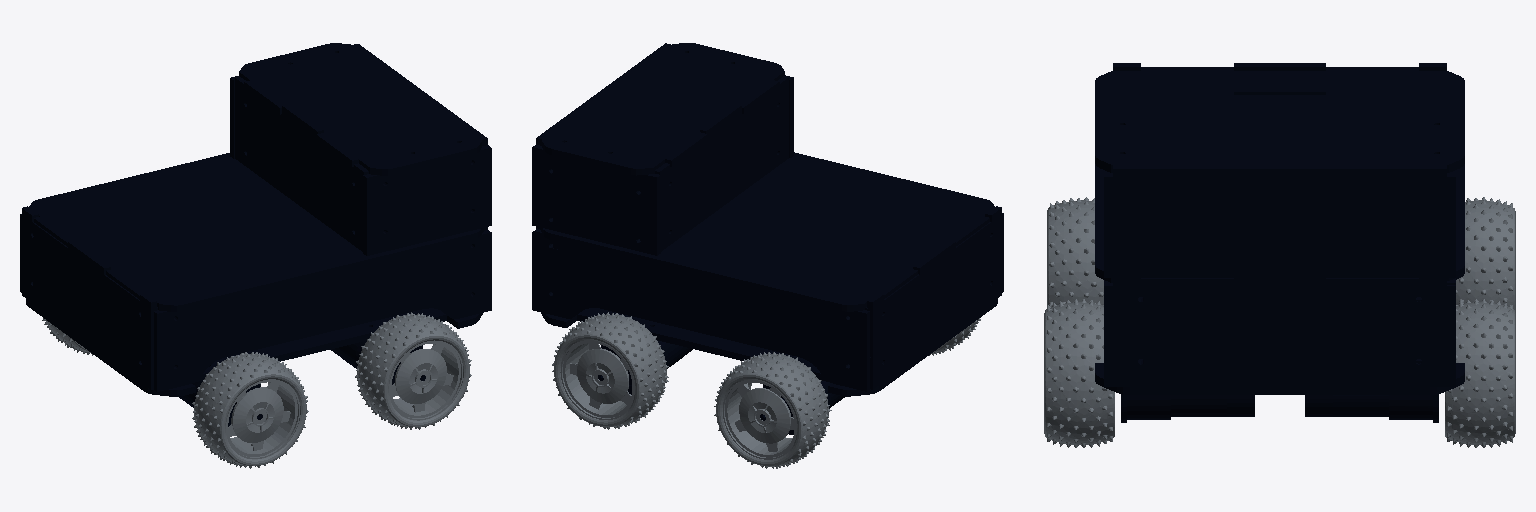
URDF robot description (robodojo):
<?xml version="1.0" encoding="utf-8"?>
<!-- This URDF was automatically created by SolidWorks to URDF Exporter! Originally created by Stephen Brawner (brawner@gmail.com) 
     Commit Version: 1.6.0-4-g7f85cfe  Build Version: 1.6.7995.38578
     For more information, please see http://wiki.ros.org/sw_urdf_exporter -->
<robot
  name="robodojo">
  <link
    name="base_link">
    <inertial>
      <origin
        xyz="0.016991164649897 2.36652576121518E-05 0.0381240243331035"
        rpy="0 0 0" />
      <mass
        value="1.34496197084573" />
      <inertia
        ixx="0.00272910463479483"
        ixy="-3.10892521044449E-09"
        ixz="9.64857077163616E-12"
        iyy="0.00426438366106387"
        iyz="-1.87434303577839E-10"
        izz="0.00643346635805135" />
    </inertial>
    <visual>
      <origin
        xyz="0 0 0"
        rpy="0 0 0" />
      <geometry>
        <mesh
          filename="package://robodojo/meshes/base_link.STL" />
      </geometry>
      <material
        name="">
        <color
          rgba="0.039216 0.058824 0.109804 1" />
      </material>
    </visual>
    <collision>
      <origin
        xyz="0 0 0"
        rpy="0 0 0" />
      <geometry>
        <mesh
          filename="package://robodojo/meshes/base_link.STL" />
      </geometry>
    </collision>
  </link>
  <link
    name="front_left_wheel">
    <inertial>
      <origin
        xyz="-1.05169954411899E-07 -0.0129963417416654 -1.19097964029063E-07"
        rpy="0 0 0" />
      <mass
        value="0.070019479086668" />
      <inertia
        ixx="4.49162318845952E-05"
        ixy="-1.40789834110715E-10"
        ixz="2.03926191822791E-11"
        iyy="7.56621221979393E-05"
        iyz="-1.89023849839168E-10"
        izz="4.49160679091751E-05" />
    </inertial>
    <visual>
      <origin
        xyz="0 0 0"
        rpy="0 0 0" />
      <geometry>
        <mesh
          filename="package://robodojo/meshes/front_left_wheel.STL" />
      </geometry>
      <material
        name="">
        <color
          rgba="0.447058823529412 0.474509803921569 0.501960784313725 1" />
      </material>
    </visual>
    <collision>
      <origin
        xyz="0 -0.013 0"
        rpy="1.5708 0 0" />
      <geometry>
        <cylinder radius="0.0407" length="0.0383" />
      </geometry>
    </collision>
  </link>
  <joint
    name="front_left_wheel_joint"
    type="continuous">
    <origin
      xyz="0.065 0.1215 -0.019796"
      rpy="0 0 0" />
    <parent
      link="base_link" />
    <child
      link="front_left_wheel" />
    <axis
      xyz="0 1 0" />
  </joint>
  <link
    name="front_right_wheel">
    <inertial>
      <origin
        xyz="-1.58718018963833E-07 0.012996341741665 -7.32354919763534E-09"
        rpy="0 0 0" />
      <mass
        value="0.0700194790866592" />
      <inertia
        ixx="4.49161522210627E-05"
        ixy="2.35532240957576E-10"
        ixz="8.44537794202227E-11"
        iyy="7.56621221979313E-05"
        iyz="-8.73823779862644E-12"
        izz="4.49161475726997E-05" />
    </inertial>
    <visual>
      <origin
        xyz="0 0 0"
        rpy="0 0 0" />
      <geometry>
        <mesh
          filename="package://robodojo/meshes/front_right_wheel.STL" />
      </geometry>
      <material
        name="">
        <color
          rgba="0.447058823529412 0.474509803921569 0.501960784313725 1" />
      </material>
    </visual>
    <collision>
      <origin
        xyz="0 0.013 0"
        rpy="1.5708 0 0" />
      <geometry>
        <cylinder radius="0.0407" length="0.0383" />
      </geometry>
    </collision>
  </link>
  <joint
    name="front_right_wheel_joint"
    type="continuous">
    <origin
      xyz="0.065 -0.1215 -0.019796"
      rpy="0 0 0" />
    <parent
      link="base_link" />
    <child
      link="front_right_wheel" />
    <axis
      xyz="0 1 0" />
  </joint>
  <link
    name="back_left_wheel">
    <inertial>
      <origin
        xyz="-8.63051810573445E-10 -0.0129963417416651 -1.58884546394567E-07"
        rpy="0 0 0" />
      <mass
        value="0.0700194790866601" />
      <inertia
        ixx="4.49161407172694E-05"
        ixy="1.83091730859495E-11"
        ixz="8.398557786589E-11"
        iyy="7.56621221979318E-05"
        iyz="-2.34982057756249E-10"
        izz="4.49161590764935E-05" />
    </inertial>
    <visual>
      <origin
        xyz="0 0 0"
        rpy="0 0 0" />
      <geometry>
        <mesh
          filename="package://robodojo/meshes/back_left_wheel.STL" />
      </geometry>
      <material
        name="">
        <color
          rgba="0.447058823529412 0.474509803921569 0.501960784313725 1" />
      </material>
    </visual>
    <collision>
      <origin
        xyz="0 -0.013 0"
        rpy="1.5708 0 0" />
      <geometry>
        <cylinder radius="0.0407" length="0.0383" />
      </geometry>
    </collision>
  </link>
  <joint
    name="back_left_wheel_joint"
    type="continuous">
    <origin
      xyz="-0.065 0.1215 -0.019796"
      rpy="0 0 0" />
    <parent
      link="base_link" />
    <child
      link="back_left_wheel" />
    <axis
      xyz="0 1 0" />
  </joint>
  <link
    name="back_right_wheel">
    <inertial>
      <origin
        xyz="1.18232358944925E-07 0.0144963417416649 1.06142139740667E-07"
        rpy="0 0 0" />
      <mass
        value="0.0700194790866537" />
      <inertia
        ixx="4.49160675860549E-05"
        ixy="-1.87864080663133E-10"
        ixz="1.90465495931449E-11"
        iyy="7.56621221979262E-05"
        iyz="-1.42333694537012E-10"
        izz="4.49162322077028E-05" />
    </inertial>
    <visual>
      <origin
        xyz="0 0 0"
        rpy="0 0 0" />
      <geometry>
        <mesh
          filename="package://robodojo/meshes/back_right_wheel.STL" />
      </geometry>
      <material
        name="">
        <color
          rgba="0.447058823529412 0.474509803921569 0.501960784313725 1" />
      </material>
    </visual>
    <collision>
      <origin
        xyz="0 0.0145 0"
        rpy="1.5708 0 0" />
      <geometry>
        <cylinder radius="0.0407" length="0.0383" />
      </geometry>
    </collision>
  </link>
  <joint
    name="back_right_wheel_joint"
    type="continuous">
    <origin
      xyz="-0.065 -0.1215 -0.019796"
      rpy="0 0 0" />
    <parent
      link="base_link" />
    <child
      link="back_right_wheel" />
    <axis
      xyz="0 1 0" />
  </joint>
  <link
    name="lidar_link">
    <inertial>
      <origin
        xyz="0 0 0.0313"
        rpy="0 0 1.5708" />
      <mass
        value="0.01" />
      <inertia
        ixx="0.000001"
        ixy="0"
        ixz="0"
        iyy="0.000001"
        iyz="0"
        izz="0.000001" />
    </inertial>
    <visual>
      <origin
        xyz="-0.042603 -0.042603 -0.033562"
        rpy="0 0 1.5708" />
      <geometry>
        <mesh
          filename="package://robodojo/meshes/lidar.stl"
          scale="0.001 0.001 0.001" />
      </geometry>
      <material
        name="lidar_material">
        <color
          rgba="0 0 0 1" />
      </material>
    </visual>
    <collision>
      <origin
        xyz="-0.042603 -0.042603 -0.033562"
        rpy="0 0 1.5708" />
      <geometry>
        <mesh
          filename="package://robodojo/meshes/lidar.stl"
          scale="0.001 0.001 0.001" />
      </geometry>
    </collision>
  </link>
  <joint
    name="lidar_joint"
    type="fixed">
    <origin
      xyz="0.0385 0 0.137"
      rpy="0 0 0" />
    <parent
      link="base_link" />
    <child
      link="lidar_link" />
  </joint>
  <link name="imu_link">
    <inertial>
      <origin xyz="0 0 0" rpy="0 0 0" />
      <mass value="0.01" />
      <inertia
        ixx="0.000001"
        ixy="0"
        ixz="0"
        iyy="0.000001"
        iyz="0"
        izz="0.000001" />
    </inertial>
    <visual>
      <origin xyz="0 0 0" rpy="0 0 0" />
      <geometry>
        <mesh
          filename="package://robodojo/meshes/imu.stl"
          scale="0.001 0.001 0.001" />
      </geometry>
      <material name="imu_material">
        <color rgba="0.5 0.8 0.8 1" />
      </material>
    </visual>
    <collision>
      <origin xyz="0 0 0" rpy="0 0 0" />
      <geometry>
        <mesh
          filename="package://robodojo/meshes/imu.stl"
          scale="0.001 0.001 0.001" />
      </geometry>
    </collision>
  </link>
  <joint name="imu_joint" type="fixed">
    <origin xyz="0.0 0 0.0" rpy="0 0 0" />
    <parent link="base_link" />
    <child link="imu_link" />
  </joint>
  <link name="base_footprint"/>
<joint name="base_footprint_joint" type="fixed">
  <parent link="base_footprint"/>
  <child link="base_link"/>
  <origin xyz="0 0 0" rpy="0 0 0"/>
</joint>
  <gazebo>
  <plugin filename="gz-sim-diff-drive-system" name="gz::sim::systems::DiffDrive">
    <left_joint>front_left_wheel_joint</left_joint>
    <left_joint>back_left_wheel_joint</left_joint>
    <right_joint>front_right_wheel_joint</right_joint>
    <right_joint>back_right_wheel_joint</right_joint>
    <wheel_separation>0.2437</wheel_separation>   <!-- measured from wheel joint y-offsets -->
    <wheel_radius>0.0407</wheel_radius>          <!-- measured from wheel mesh bbox -->
    <topic>/cmd_vel</topic>
    <odom_topic>/odom</odom_topic>
    <frame_id>odom</frame_id>
    <!-- Heavily geared-down motors: keep the physics inside what the
         real drive can do. 0.15 m/s, 0.35 m/s^2, 1.2 rad/s, 1.5 rad/s^2. -->
    <max_linear_velocity>0.15</max_linear_velocity>
    <max_linear_acceleration>0.35</max_linear_acceleration>
    <max_angular_acceleration>1.5</max_angular_acceleration>
    <max_angular_velocity>1.2</max_angular_velocity>
    <child_frame_id>base_footprint</child_frame_id>
    <odom_publish_frequency>100</odom_publish_frequency>
    <tf_topic>/tf_raw</tf_topic>   <!-- never bridged, so the EKF owns odom TF -->
  </plugin>
  <plugin filename="gz-sim-joint-state-publisher-system"
          name="gz::sim::systems::JointStatePublisher">
    <topic>joint_states</topic>
  </plugin>
</gazebo>

<gazebo reference="imu_link">
  <sensor name="imu" type="imu">
    <topic>/imu</topic>
    <gz_frame_id>imu_link</gz_frame_id>
    <update_rate>100</update_rate>
    <always_on>true</always_on>
    <visualize>false</visualize>
  </sensor>
</gazebo>
  <gazebo reference="lidar_link">
    <sensor
      name="lidar"
      type="gpu_lidar">
      <topic>/scan</topic>
      <gz_frame_id>lidar_link</gz_frame_id>
      <!-- 15 Hz, not 100: at 100 Hz the sim was publishing ~34 Hz of 720-ray
           scans, which starved the CPU (sim fell to ~6% real time), made scan
           timing bursty, and overflowed slam_toolbox's tf2 MessageFilter queue
           (scan_queue_size default 1) -> no scan ever reached the mapper ->
           slam_toolbox published a 0x0 map -> Nav2 rejected it as malformed. -->
      <update_rate>15</update_rate>
      <ray>
        <scan>
          <horizontal>
            <samples>720</samples>
            <resolution>1</resolution>
            <min_angle>-3.14159</min_angle>
            <max_angle>3.14159</max_angle>
          </horizontal>
          <vertical>
            <samples>1</samples>
            <resolution>1</resolution>
            <min_angle>0</min_angle>
            <max_angle>0</max_angle>
          </vertical>
        </scan>
        <range>
          <min>0.1</min>
          <max>30</max>
          <resolution>0.01</resolution>
        </range>
      </ray>
    </sensor>
  </gazebo>

</robot>

--- Render facts (derived) ---
Views: 3 orthographic renders of the robot side by side, from view 1: azimuth 30°, elevation 25°; view 2: azimuth 150°, elevation 25°; view 3: azimuth 270°, elevation 25°.
Model robodojo with 8 links and 7 joints (4 continuous, 3 fixed), rooted at base_footprint, posed every joint at zero.
Visible links, largest first — view 1: base_link, front_right_wheel, back_right_wheel; view 2: base_link, front_left_wheel, back_left_wheel; view 3: base_link, front_left_wheel, front_right_wheel, back_left_wheel, back_right_wheel.
Boxes of the visible links, x1,y1,x2,y2 form: base_link: [20, 43, 491, 426]; front_right_wheel: [355, 312, 471, 429]; back_right_wheel: [192, 352, 308, 468]; base_link: [532, 43, 1003, 434]; front_left_wheel: [552, 312, 668, 429]; back_left_wheel: [714, 352, 831, 468]; base_link: [1095, 63, 1464, 422]; front_left_wheel: [1445, 299, 1515, 447]; front_right_wheel: [1044, 299, 1114, 447]; back_left_wheel: [1456, 197, 1515, 312]; back_right_wheel: [1047, 197, 1103, 306].
Bounding box of the posed robot: 0.271 × 0.2543 × 0.1975 m (x, y, z).
6 mesh visuals loaded from 7 distinct referenced files (6 binary STL); not drawn: 1 (reference not matched to a file when rendering).
